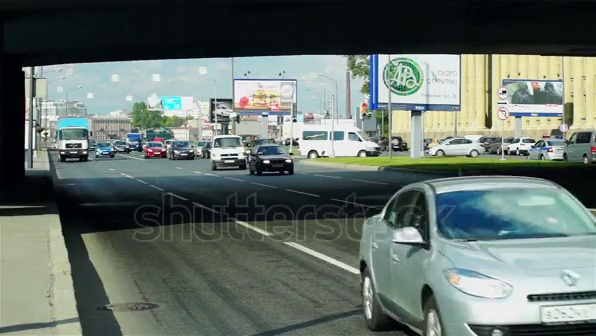licenseplate: (542, 301, 596, 318)
